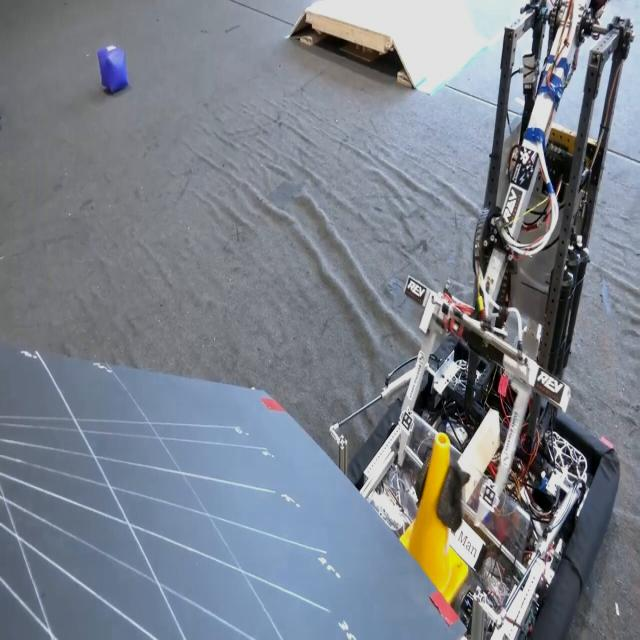frc_cone: (410, 422, 463, 596)
frc_cube: (93, 29, 130, 102)
